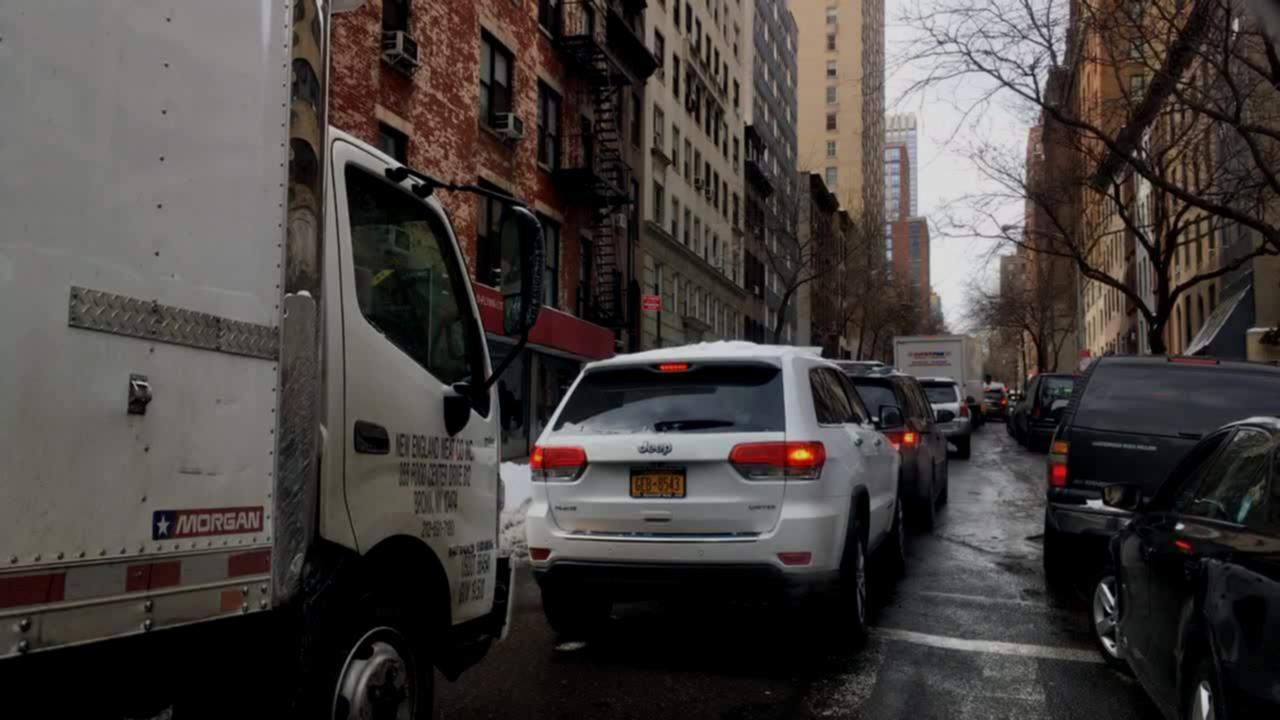jeep: (622, 433, 683, 464)
